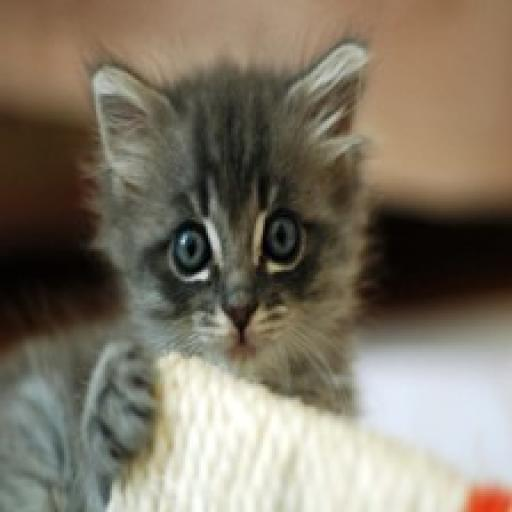cat: (0, 10, 424, 512)
